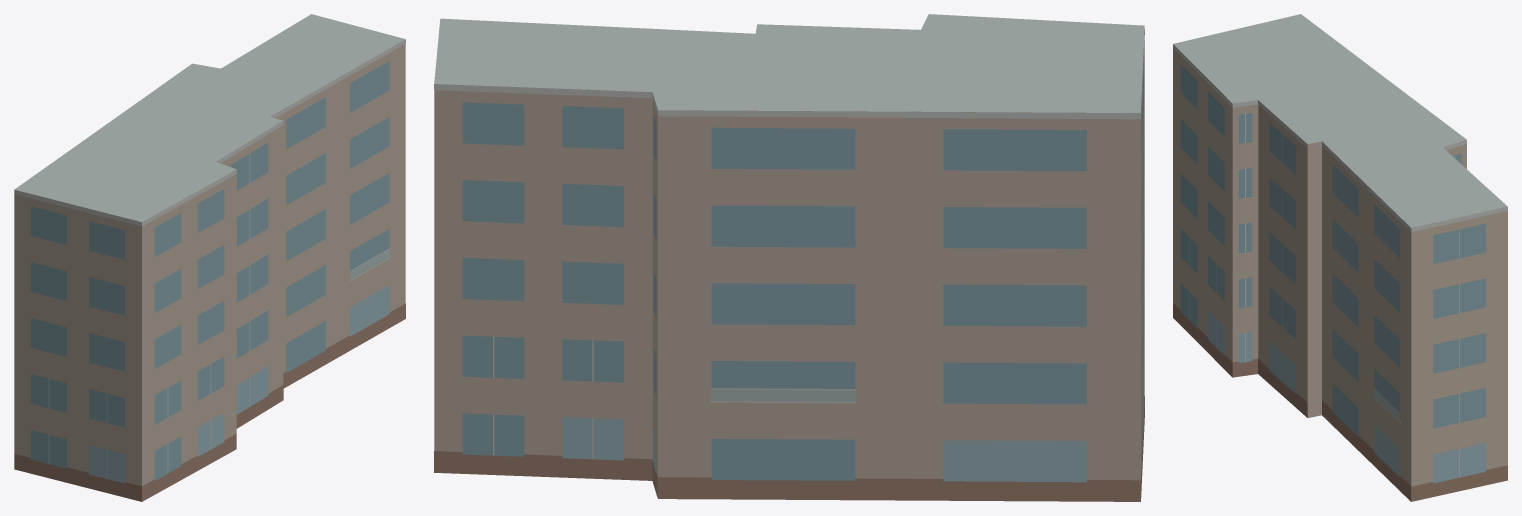
Rendered from survey-upis-32579948.glb.
3 renders of one model, left to right at view 1: azimuth 30°, elevation 25°; view 2: azimuth 150°, elevation 25°; view 3: azimuth 270°, elevation 25°, orthographic. The views are drawn at different scales.
Parts seen in each view (by area): view 1: survey-upis-32579948.tmp; view 2: survey-upis-32579948.tmp; view 3: survey-upis-32579948.tmp.
Part boxes in pixels (x1,y1,x2,y2): survey-upis-32579948.tmp: (14, 14, 405, 501); survey-upis-32579948.tmp: (434, 14, 1144, 501); survey-upis-32579948.tmp: (1173, 14, 1507, 501).
Bounding box in the file's own units: 25.89 × 15.45 × 17.12.
